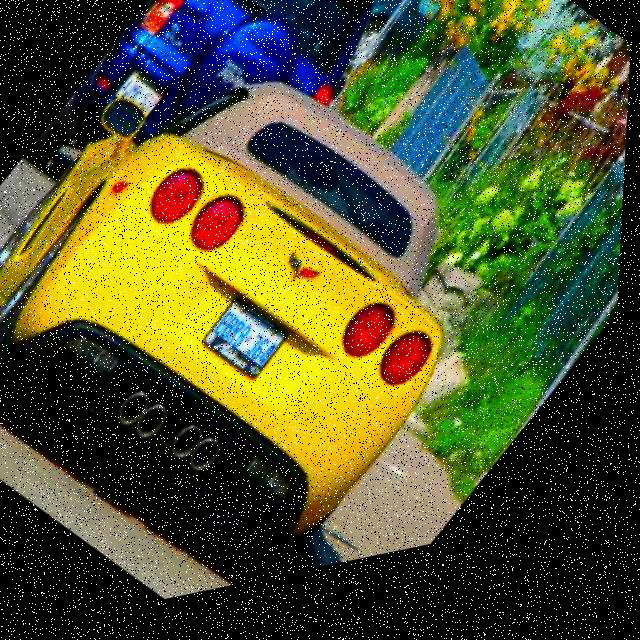license_plate: (201, 296, 298, 404), (114, 72, 168, 130)
